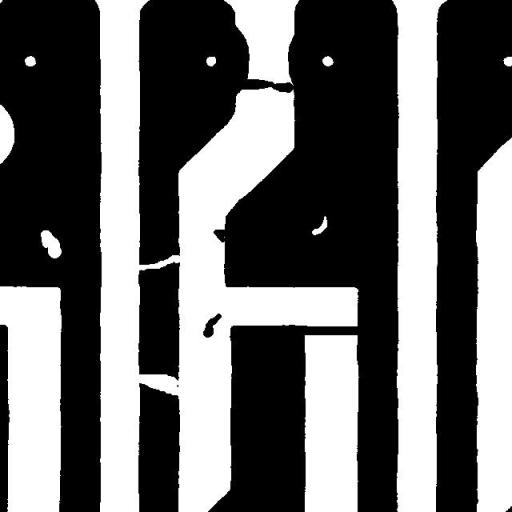copper: (195, 306, 229, 344)
open: (127, 366, 187, 402), (122, 247, 189, 278)
pin-hole: (33, 222, 69, 266), (304, 208, 334, 242)
short: (230, 71, 300, 100), (288, 318, 367, 342)
spur: (206, 222, 239, 250)
